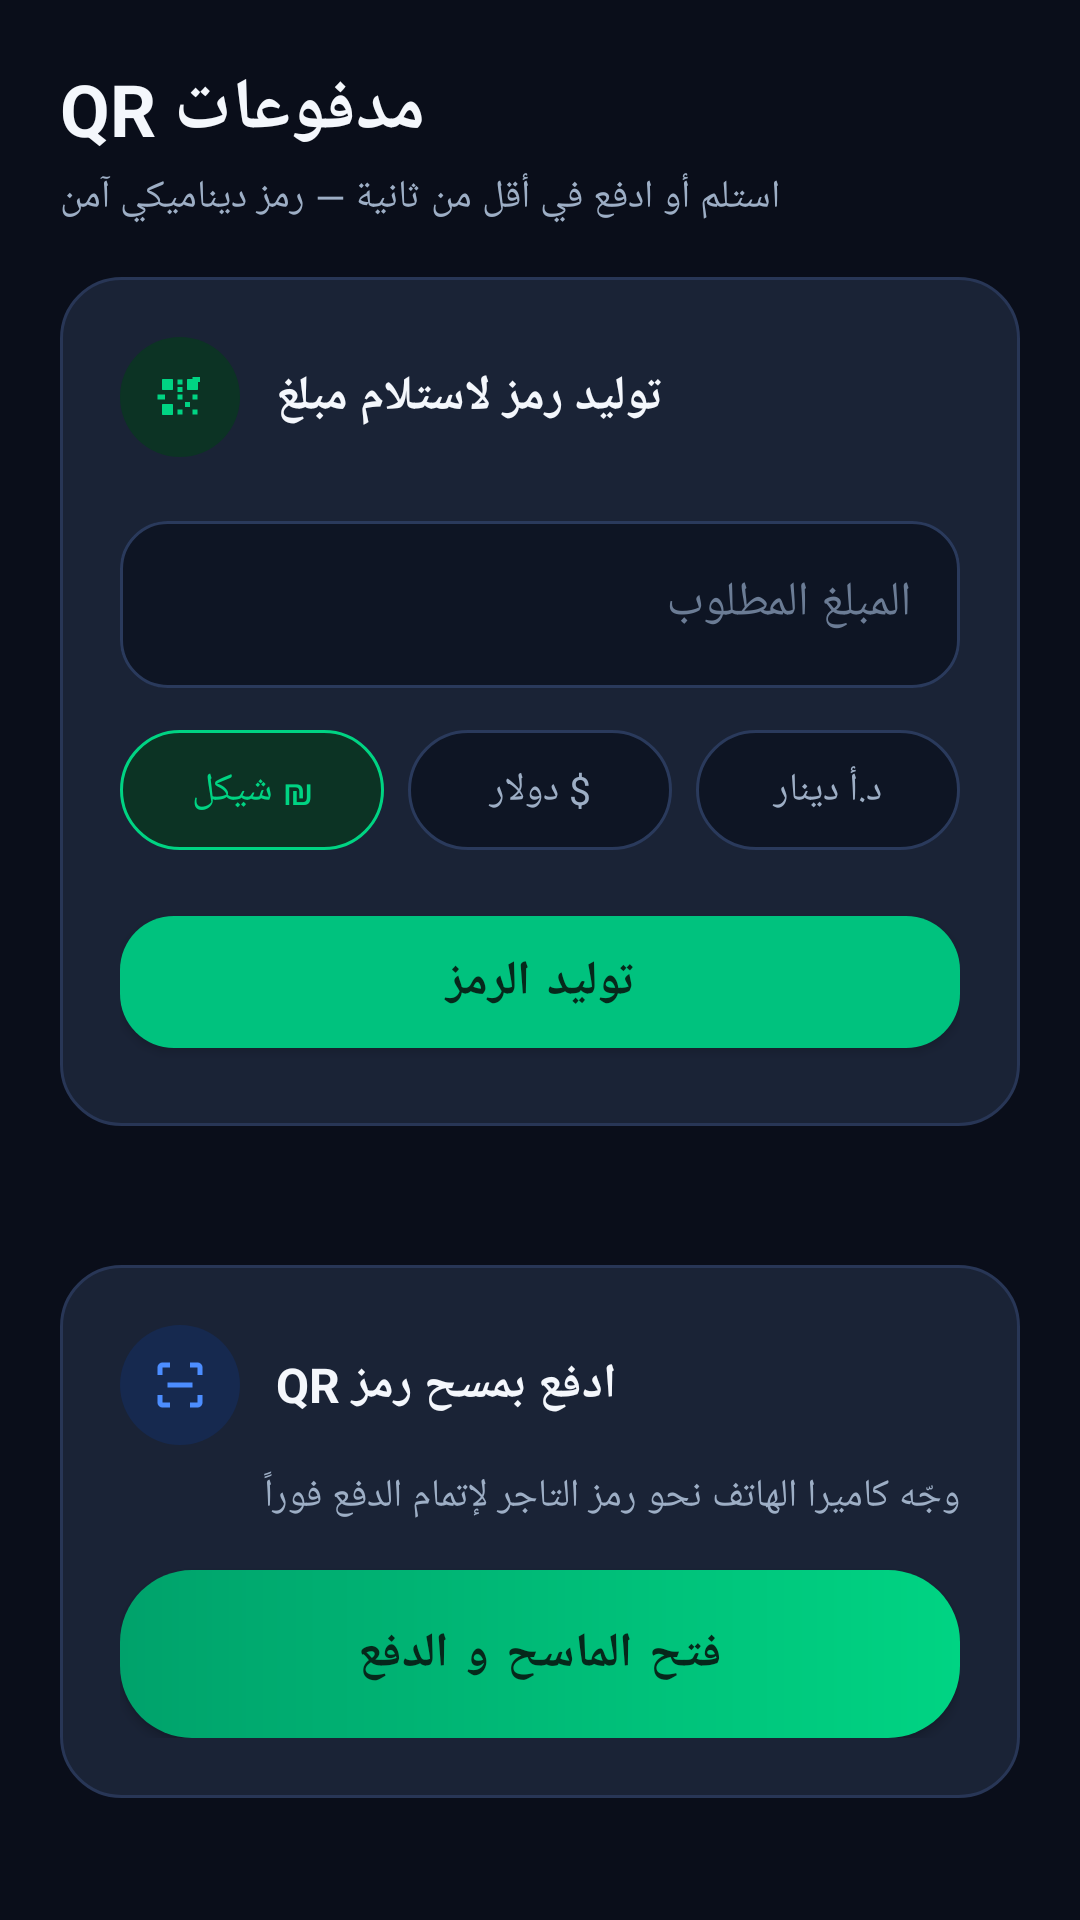

Where to tap for icons on this 1080x1920 app screen, as (x,y):
scan: (180,1385)
